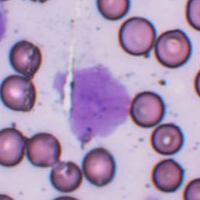D: (70, 64, 132, 140)
